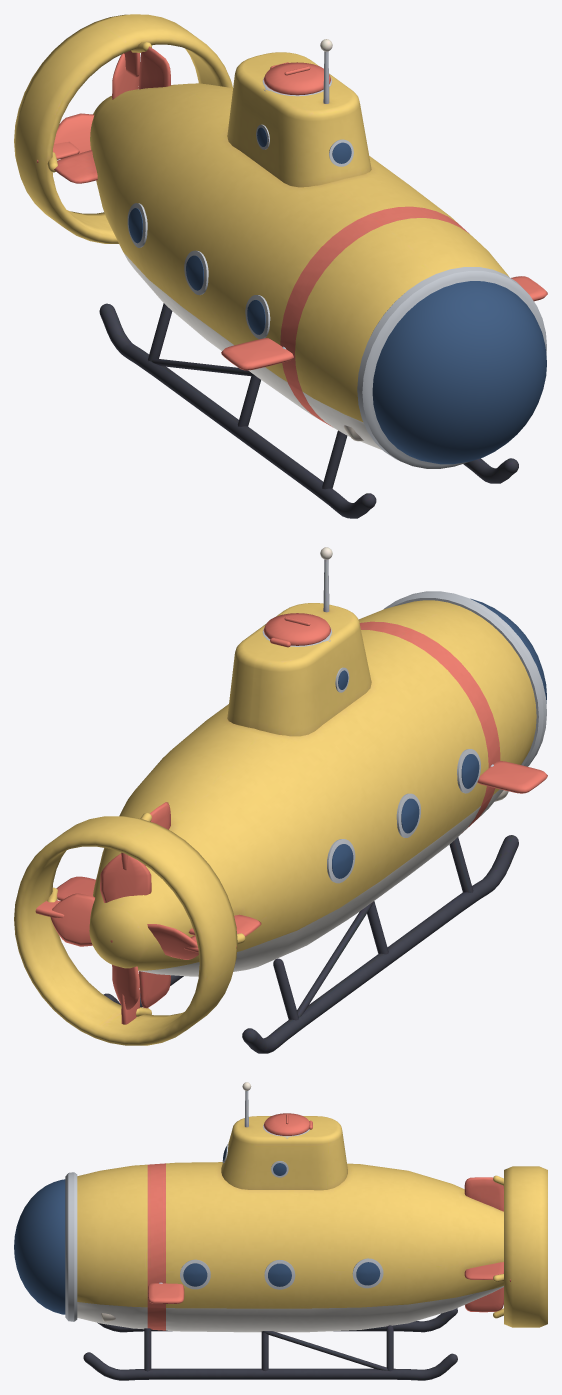
The model's file is submarine.glb.
3 renders of one model, top to bottom at view 1: azimuth 30°, elevation 25°; view 2: azimuth 150°, elevation 25°; view 3: azimuth 270°, elevation 25°, orthographic. The views are drawn at different scales.
Parts seen in each view (by area): view 1: submarine_body, submarine_dome, submarine_dome_ring, submarine_portholes, submarine_propeller, submarine_hatch, submarine_dive_plane_bow_starboard; view 2: submarine_body, submarine_propeller, submarine_portholes, submarine_dome_ring, submarine_hatch, submarine_dive_plane_bow_starboard, submarine_dome; view 3: submarine_body, submarine_dome, submarine_portholes, submarine_dome_ring, submarine_hatch, submarine_dive_plane_bow_port.
Boxes of the visible parts, x1,y1,x2,y2 form: submarine_body: (14,14,518,518); submarine_dome: (372,281,546,464); submarine_dome_ring: (357,267,546,468); submarine_portholes: (127,124,353,339); submarine_propeller: (54,53,139,153); submarine_hatch: (263,62,330,95); submarine_dive_plane_bow_starboard: (221,338,293,370); submarine_body: (14,547,536,1053); submarine_propeller: (50,853,198,1009); submarine_portholes: (327,667,480,883); submarine_dome_ring: (383,591,546,766); submarine_hatch: (263,613,330,647); submarine_dive_plane_bow_starboard: (477,761,547,793); submarine_dome: (470,598,546,703); submarine_body: (77,1082,547,1380); submarine_dome: (14,1179,65,1314); submarine_portholes: (180,1144,383,1289); submarine_dome_ring: (65,1172,77,1321); submarine_hatch: (263,1113,312,1135); submarine_dive_plane_bow_port: (147,1283,184,1303).
Bounding box in the file's own units: 3.38 × 4.11 × 7.27.
Materials: 13 (1 with a texture image).
